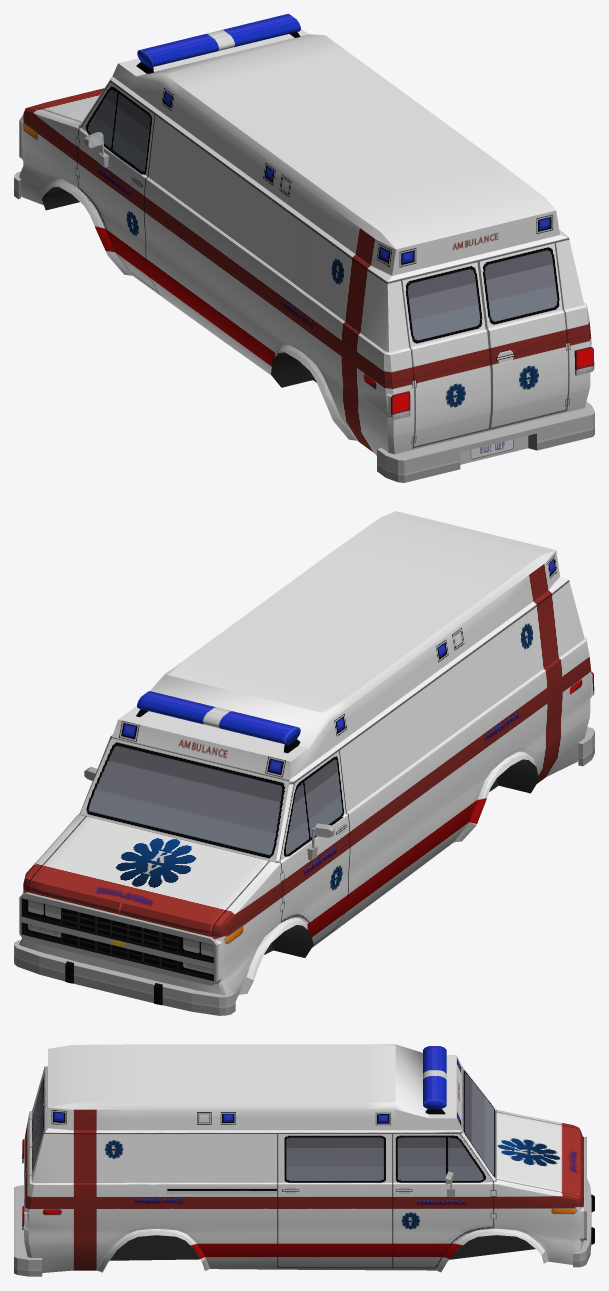
The model's file is 93c10vanambulance.fbx.
The picture shows the model from 3 angles, top to bottom: view 1: azimuth 30°, elevation 25°; view 2: azimuth 150°, elevation 25°; view 3: azimuth 270°, elevation 25°; orthographic projection. The views are drawn at different scales.
Parts seen in each view (by area): view 1: 93g10vanambulance; view 2: 93g10vanambulance; view 3: 93g10vanambulance.
Part boxes in pixels (<box>): 93g10vanambulance: <box>14,14,594,482</box>; 93g10vanambulance: <box>14,511,594,1015</box>; 93g10vanambulance: <box>14,1044,594,1276</box>.
Bounding box in the file's own units: 2.38 × 2.04 × 6.42.
